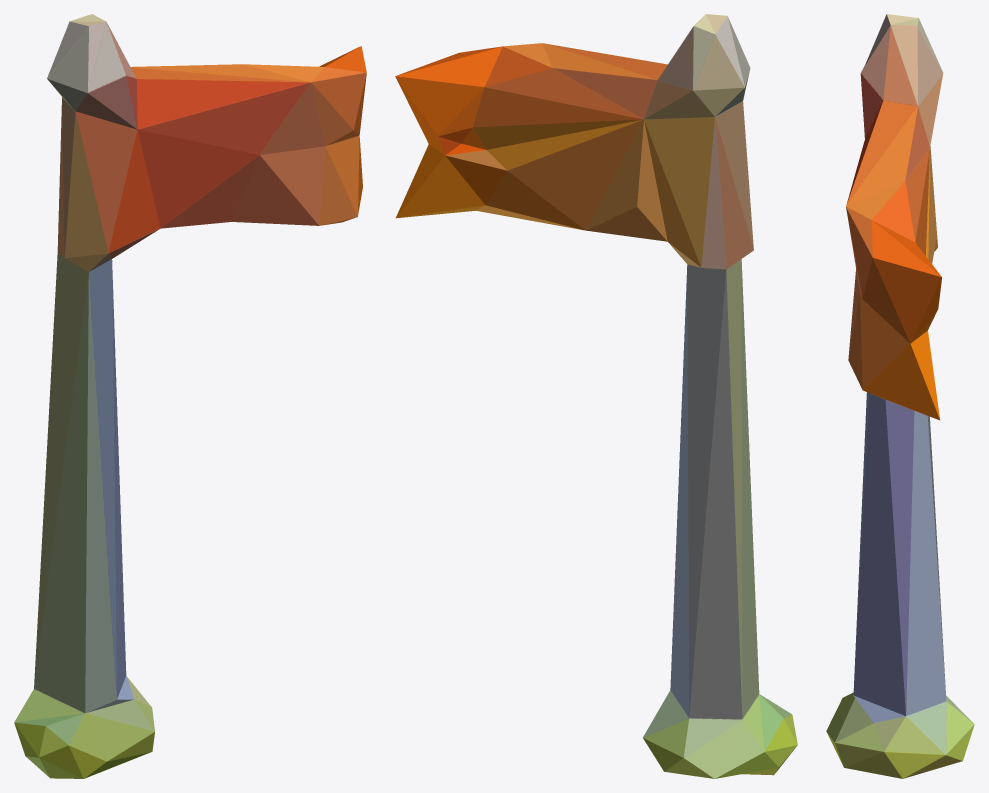
File: Flagpole.fbx
The picture shows the model from 3 angles, left to right: view 1: azimuth 30°, elevation 25°; view 2: azimuth 150°, elevation 25°; view 3: azimuth 270°, elevation 25°; orthographic projection.
Parts seen in each view (by area): view 1: Mesh_0; view 2: Mesh_0; view 3: Mesh_0.
Part boxes in pixels (x1,y1,x2,y2): Mesh_0: [14, 14, 366, 778]; Mesh_0: [395, 14, 797, 778]; Mesh_0: [826, 14, 974, 778].
Bounding box in the file's own units: 90.4 × 177 × 31.77.
Materials: 1 (1 with a texture image).
